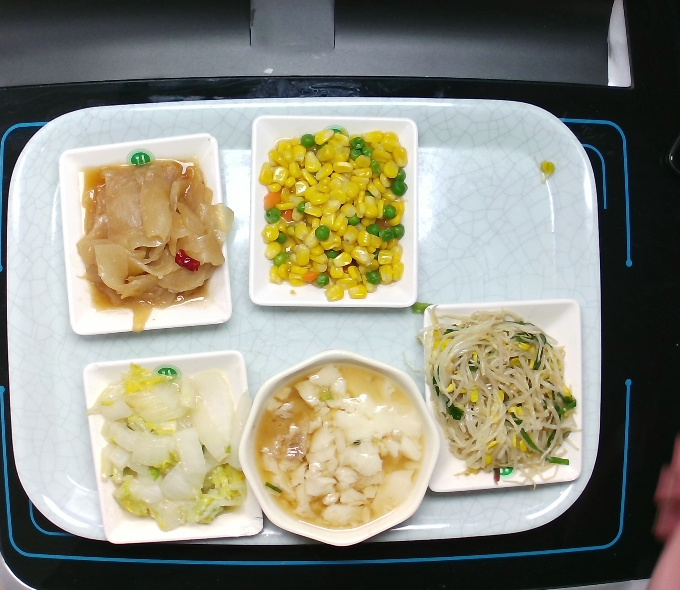wcq-DaBaiCai: (77, 356, 258, 536)
wcq-DongGua: (72, 152, 240, 336)
wcq-DouYa: (405, 300, 588, 502)
wcq-ShuiZhengDan: (244, 356, 432, 538)
wcq-TianMiTianDou: (254, 122, 411, 304)
